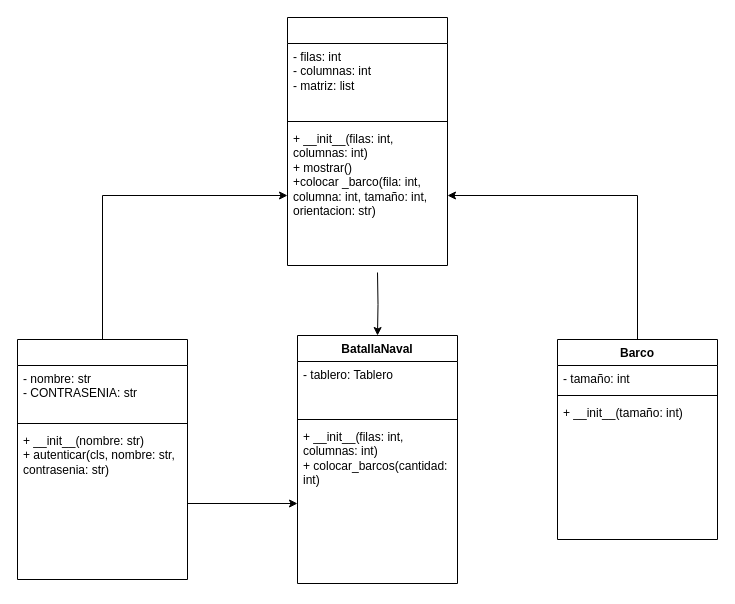
This 735x604 diagram has some shape labels left out. The box of each missing label's shape, as (x1, y1, x2, y2) in pixels:
Jugador: (16, 338, 188, 580)
Tablero: (286, 16, 448, 266)
